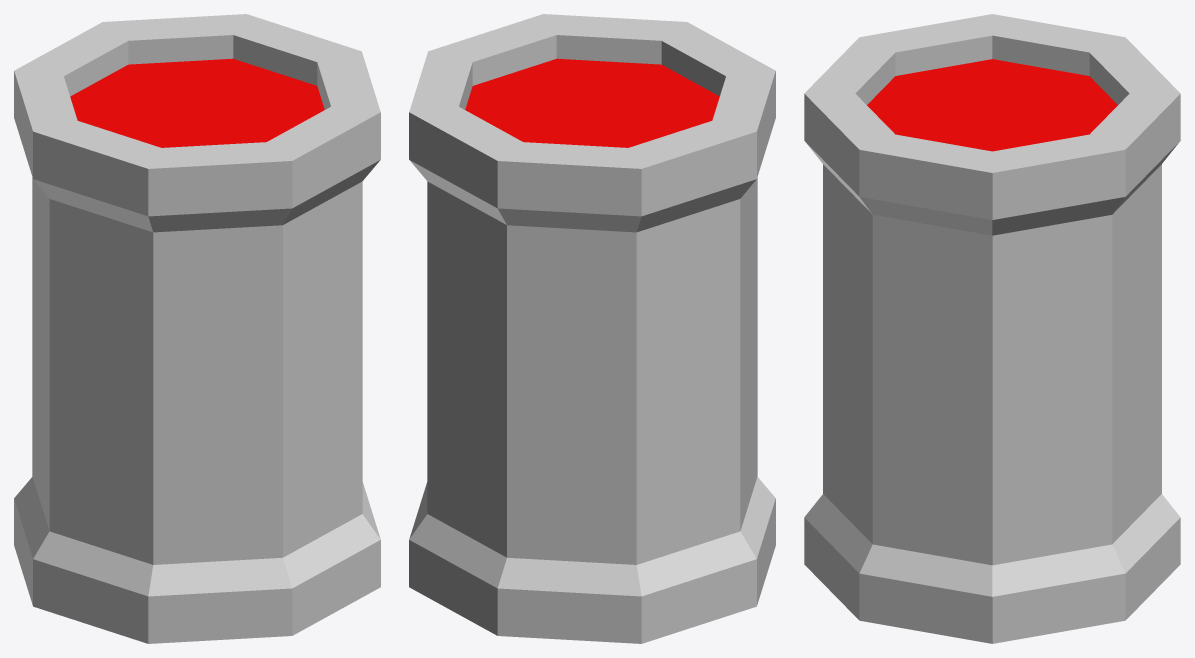
File: Barril.glb
3 views of the same model, side by side, from view 1: azimuth 30°, elevation 25°; view 2: azimuth 150°, elevation 25°; view 3: azimuth 270°, elevation 25° (orthographic).
Visible parts, largest first — view 1: Barril; view 2: Barril; view 3: Barril.
Part boxes in pixels (box(x1,y1,x2,y2)): Barril: box(14, 14, 380, 643); Barril: box(409, 14, 775, 643); Barril: box(804, 14, 1180, 643).
Bounding box in the file's own units: 0.7243 × 1 × 0.7243.
